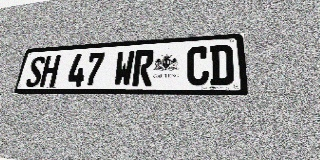4: (66, 53, 88, 87)
7: (83, 52, 105, 87)
C: (186, 46, 209, 86)
D: (210, 44, 234, 86)
H: (39, 55, 61, 87)
R: (132, 49, 154, 86)
S: (25, 56, 46, 87)
W: (113, 50, 135, 87)
